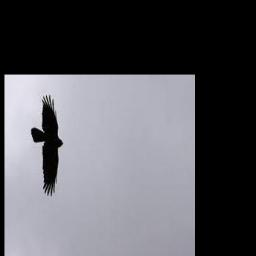Crow: (31, 95, 63, 197)
